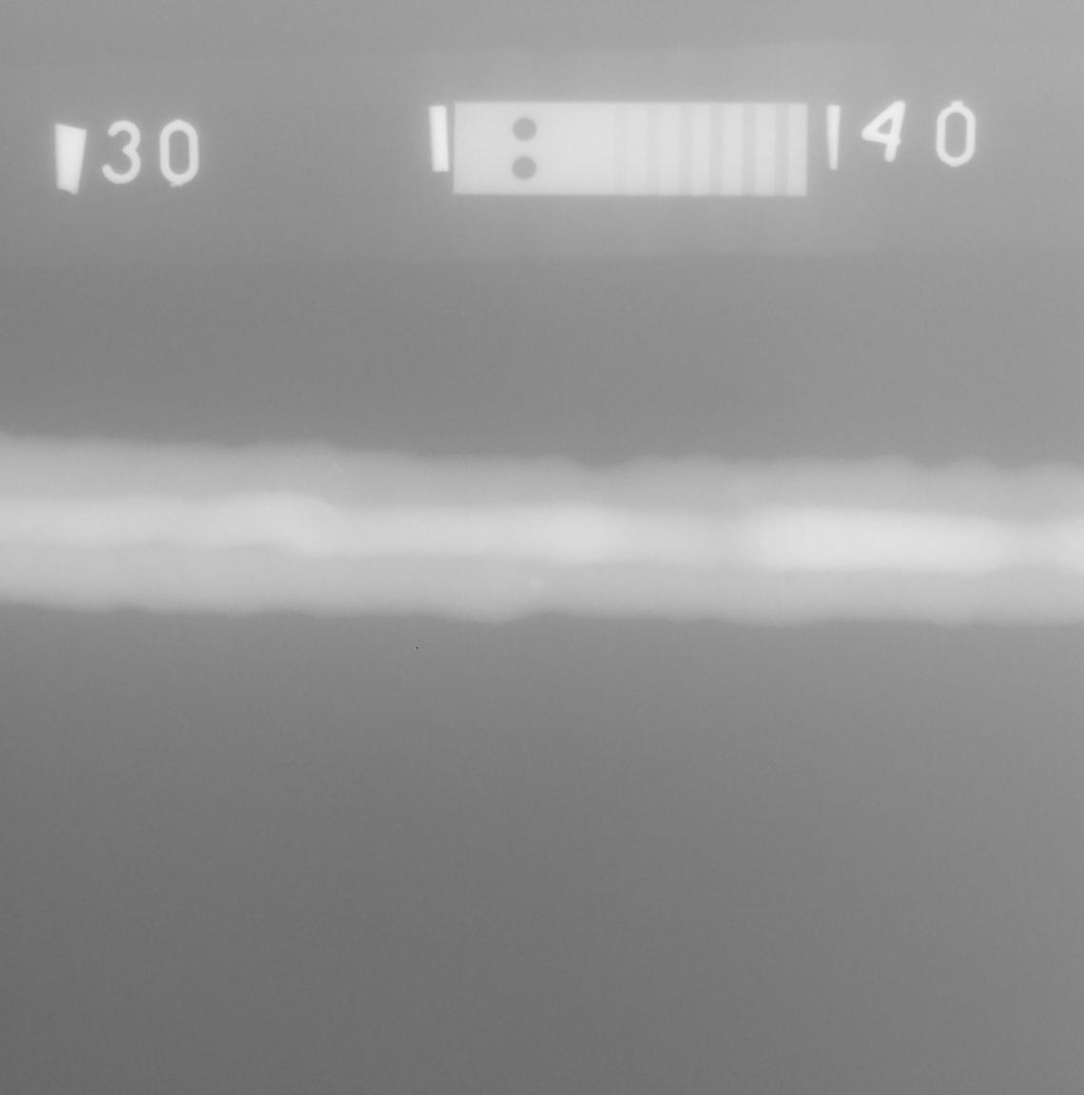Reference Standard 2: (453, 102, 808, 197)
